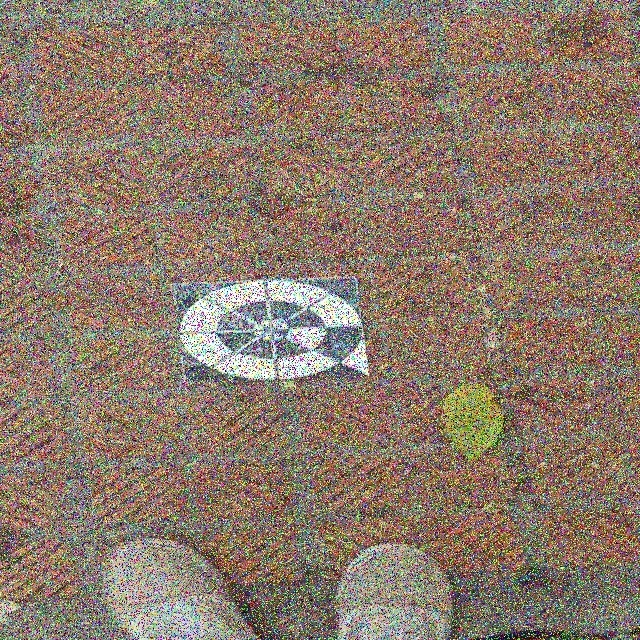landing-zone: (172, 274, 376, 388)
